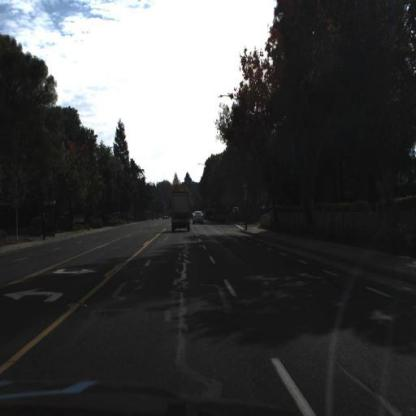car: (192, 208, 206, 227)
pedestrian: (41, 213, 49, 241)
truck: (169, 188, 192, 236)
